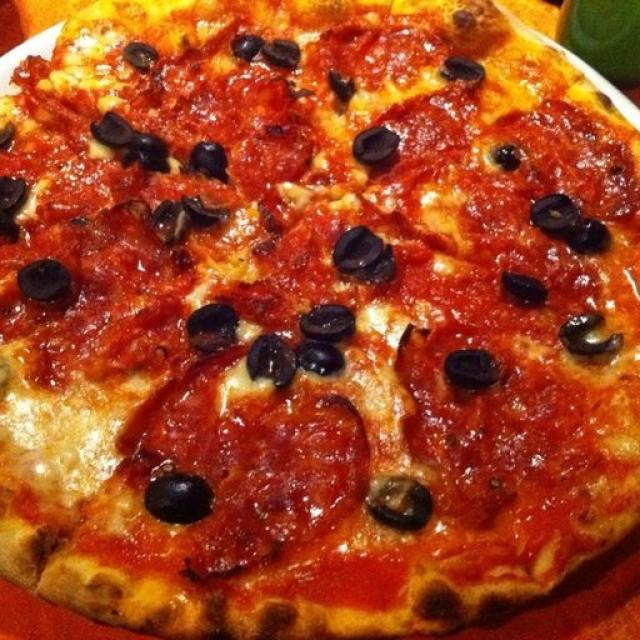Olives: (336, 221, 400, 286), (541, 198, 609, 255), (178, 307, 240, 355), (374, 475, 429, 529), (228, 29, 304, 67), (146, 470, 205, 516), (254, 335, 292, 395), (179, 187, 225, 236), (567, 316, 620, 356), (446, 346, 495, 386), (190, 139, 235, 182), (299, 343, 343, 382), (23, 262, 68, 300), (499, 270, 546, 306), (354, 126, 398, 164), (303, 303, 349, 337), (133, 130, 167, 171), (120, 41, 158, 74), (442, 56, 482, 84), (100, 112, 134, 144), (0, 172, 17, 236), (324, 74, 358, 102), (156, 197, 172, 247), (495, 142, 520, 171)
Pepperoni: (123, 346, 369, 578), (404, 317, 590, 523), (3, 201, 198, 380), (372, 100, 475, 197), (239, 123, 323, 206)
Pizza: (0, 1, 640, 640)
